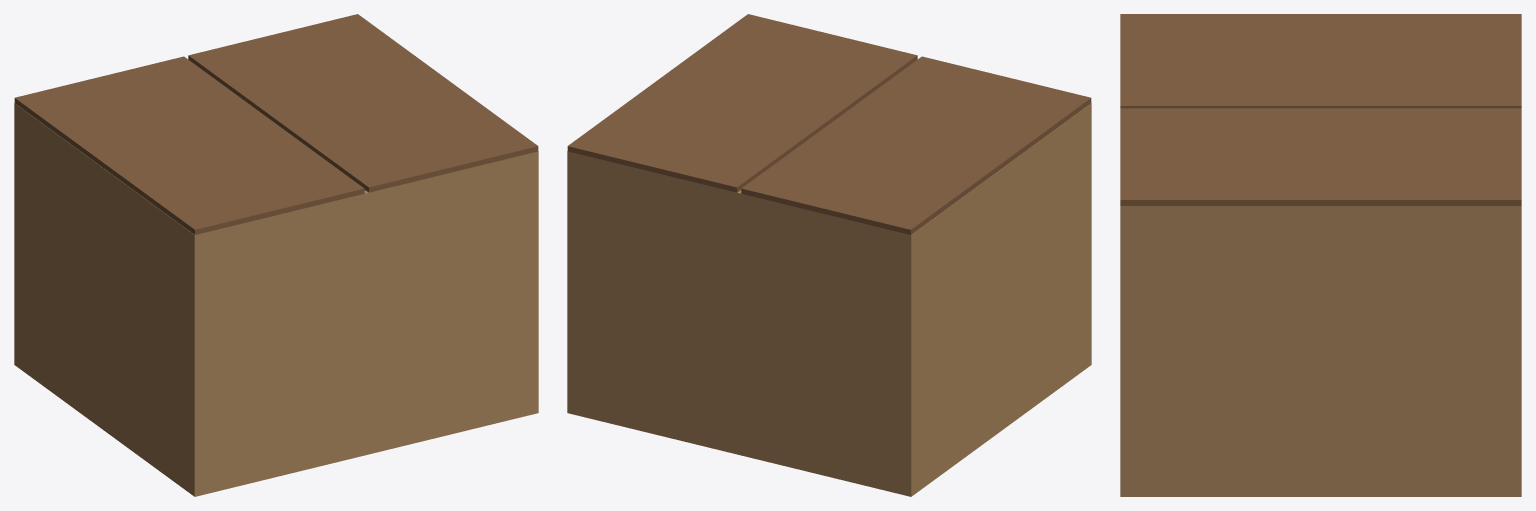
Rendered from PROP_Carton.glb.
3 views of the same model, side by side, from view 1: azimuth 30°, elevation 25°; view 2: azimuth 150°, elevation 25°; view 3: azimuth 270°, elevation 25° (orthographic). The views are drawn at different scales.
Visible parts, largest first — view 1: Walls, LeftFlap, RightFlap; view 2: Walls, LeftFlap, RightFlap; view 3: Walls, RightFlap, LeftFlap.
Boxes of the visible parts, bbox=[...] form: Walls: bbox=[14, 103, 538, 496]; LeftFlap: bbox=[14, 56, 364, 234]; RightFlap: bbox=[188, 14, 538, 192]; Walls: bbox=[567, 103, 1091, 496]; LeftFlap: bbox=[741, 56, 1091, 234]; RightFlap: bbox=[567, 14, 917, 192]; Walls: bbox=[1120, 206, 1521, 496]; RightFlap: bbox=[1120, 108, 1521, 205]; LeftFlap: bbox=[1120, 14, 1521, 108].
Size of the model in its own units: 0.55 by 0.408 by 0.5.
